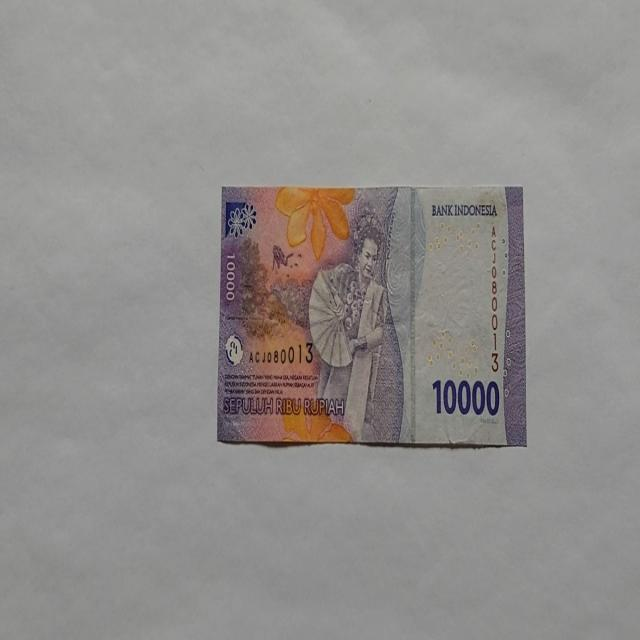sepuluh ribu rupiah: (216, 183, 526, 448)
